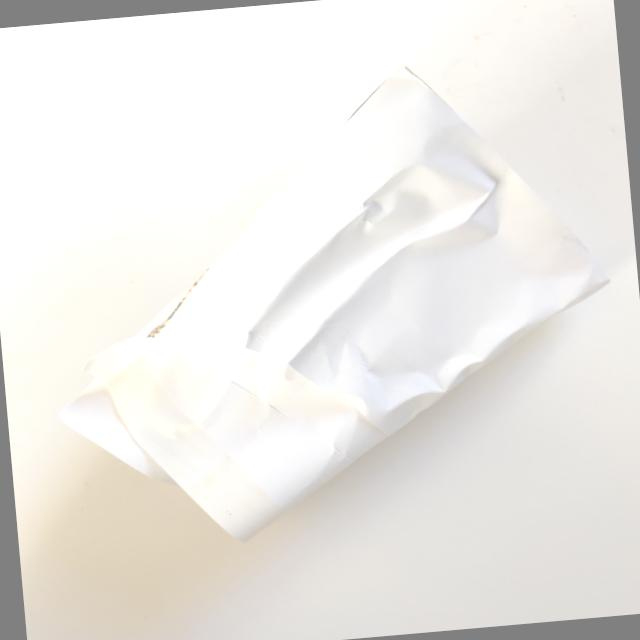Paper: (31, 48, 628, 558)
